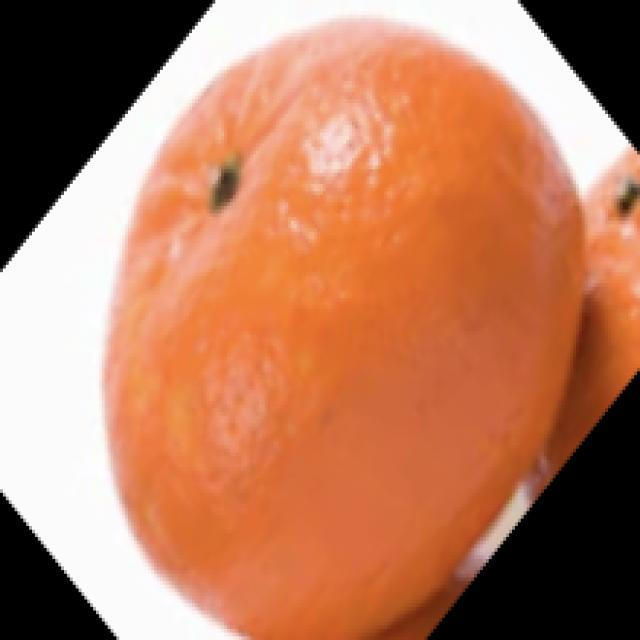Orange: (102, 14, 587, 639)
